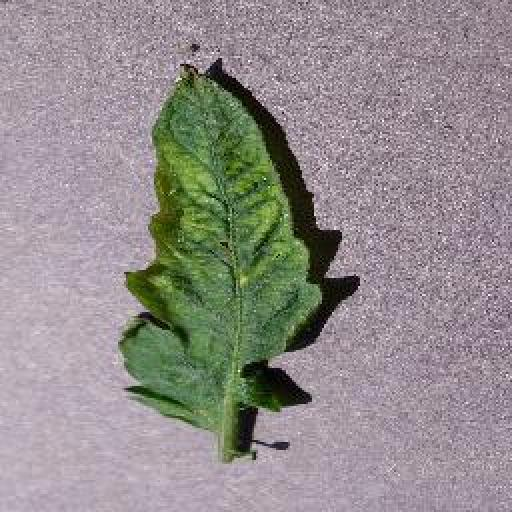Mosaic Virus: (115, 60, 325, 432)
